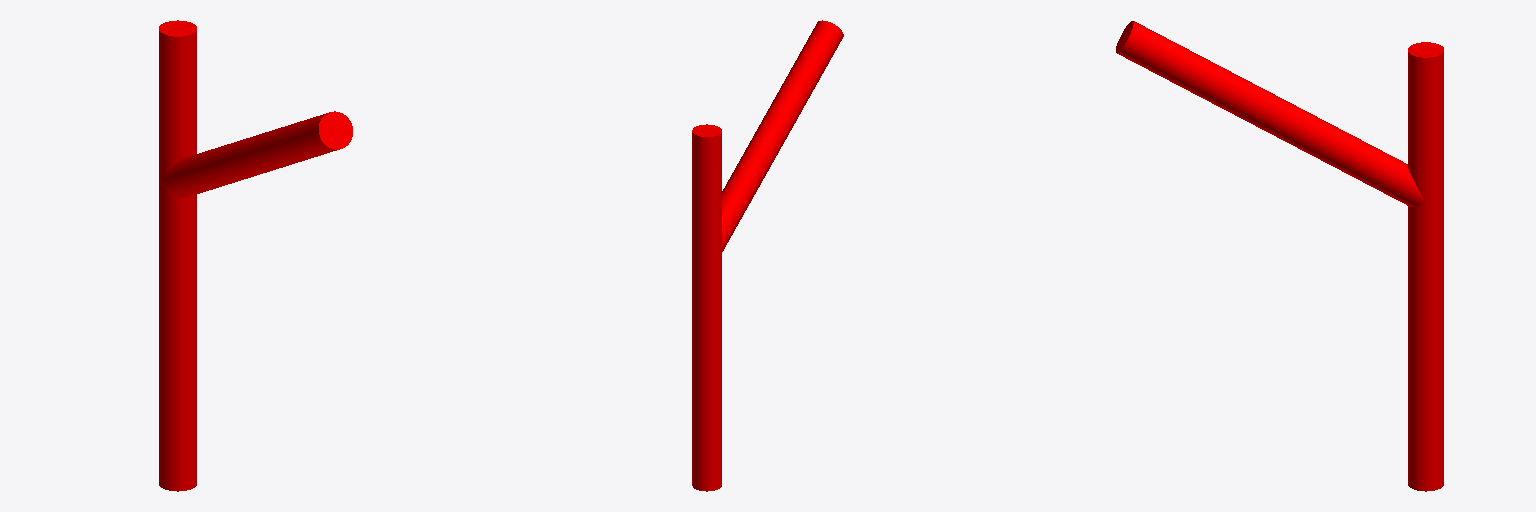
URDF robot description (tree.urdf):
<?xml version="1.0" ?>
<robot name="tree.urdf">
  <link name="baseLink">
    <inertial>
      <origin rpy="0 0 0" xyz="0 0 0"/>
       <mass value=".1"/>
       <inertia ixx="1" ixy="0" ixz="0" iyy="1" iyz="0" izz="1"/>
    </inertial>
    <contact>
      <lateral_friction value="1.0"/>
      <inertia_scaling value="3.0"/>
    </contact>
    <visual>
      <origin rpy="0 0 0" xyz="0 0 0"/>
      <geometry>
        <mesh filename="10.stl" scale="1 1 1" />
      </geometry>
      <material name="red">
        <color rgba="1 0 0 1"/>
      </material>
    </visual>
    <collision>
      <origin rpy="0 0 0" xyz="0 0 0"/>
      <geometry>
        <mesh filename="10_convex.obj" scale="1 1 1" />
      </geometry>
    </collision>
  </link>
</robot>

--- Render facts (derived) ---
The picture shows the robot from 3 angles, left to right: view 1: azimuth 30°, elevation 25°; view 2: azimuth 150°, elevation 25°; view 3: azimuth 270°, elevation 25°; orthographic projection.
Robot: tree.urdf — 1 links, 0 joints (none); root link baseLink; default pose: all joints at 0.
Links seen in each view (by area): view 1: baseLink; view 2: baseLink; view 3: baseLink.
Boxes of the visible links, x1=… form: baseLink: x1=159, y1=20, x2=352, y2=491; baseLink: x1=692, y1=20, x2=843, y2=491; baseLink: x1=1116, y1=21, x2=1443, y2=491.
Size in the robot's own frame: 0.0192 by 0.1718 by 0.2658 metres.
Meshes: 1 distinct files referenced, 1 mesh visuals loaded (1 binary STL).